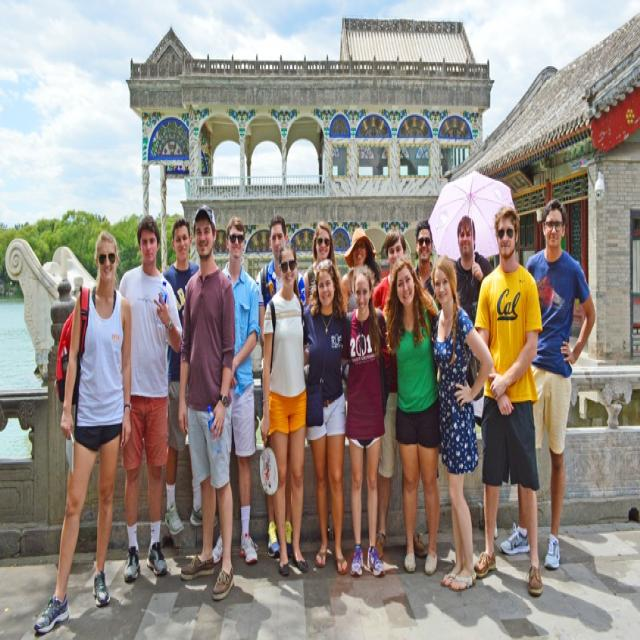body: (31, 226, 134, 637), (498, 196, 596, 572), (466, 203, 544, 597), (115, 213, 186, 586), (177, 203, 238, 603), (430, 253, 496, 593), (369, 222, 430, 566), (207, 214, 263, 567), (254, 214, 309, 561), (161, 216, 219, 536), (258, 237, 312, 578), (387, 256, 442, 578), (338, 262, 392, 581), (303, 256, 351, 576), (450, 212, 494, 327), (336, 225, 382, 324), (301, 218, 344, 313), (413, 219, 442, 312)
